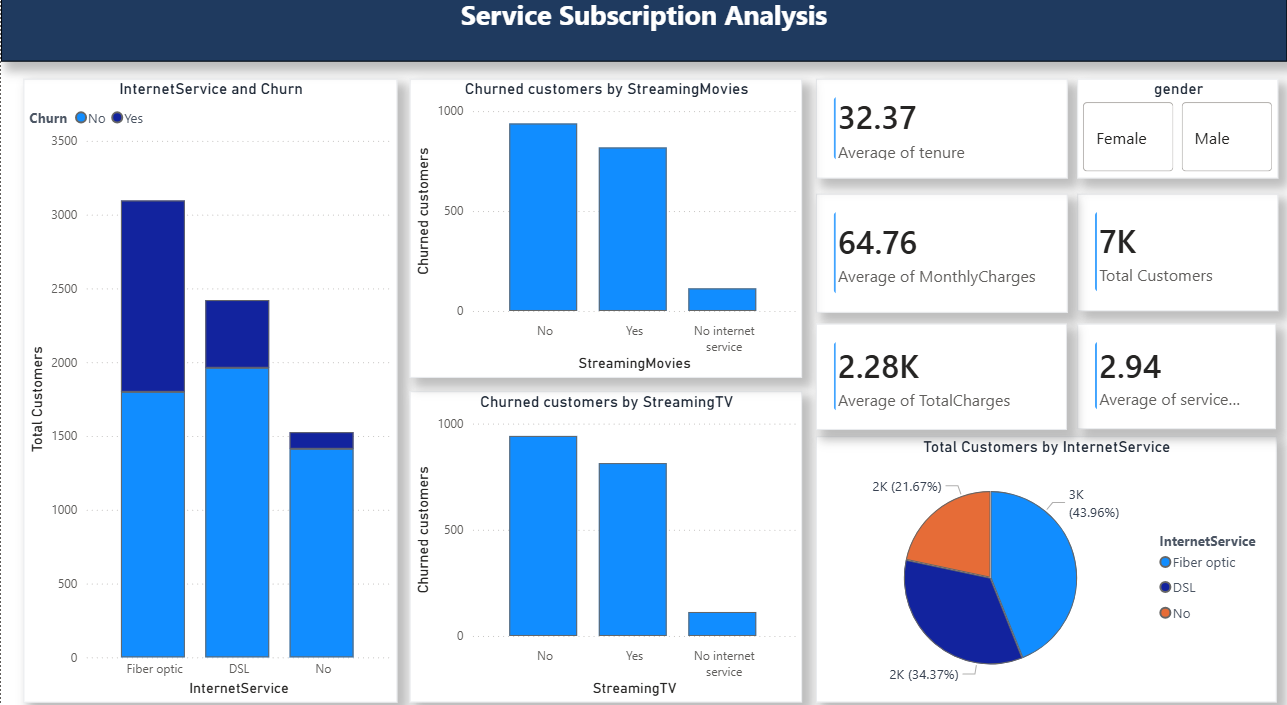

Layout of this report page (visuals, bound fields, positions):
{"tool":"powerbi","page":{"name":"Service Subscription Analysis","canvas":[1280,720],"ordinal":1},"visuals":[{"type":"cardVisual","fields":{"Data":["Telco-Customer-Churn).Total Customers"]},"box":[1071,202.8,200.3,116.9],"z":0},{"type":"cardVisual","fields":{"Data":["Avg(WA_Fn-UseC_-Telco-Customer-Churn (1).MonthlyCharges)"]},"box":[811.1,202.8,250,118.2],"z":1000},{"type":"cardVisual","fields":{"Data":["Avg(WA_Fn-UseC_-Telco-Customer-Churn (1).tenure)"]},"box":[811.1,88.3,250,99.5],"z":2000},{"type":"columnChart","title":"InternetService and Churn","fields":{"Category":["WA_Fn-UseC_-Telco-Customer-Churn (1).InternetService"],"Series":["Telco-Customer-Churn.Churn"],"Y":["Telco-Customer-Churn.Total Customers"]},"box":[22.4,88.3,371.9,620.7],"z":3000},{"type":"clusteredColumnChart","fields":{"Category":["Telco-Customer-Churn.StreamingTV"],"Y":["Telco-Customer-Churn.Churned customers"]},"box":[406.8,399.3,390.6,309.7],"z":4000},{"type":"clusteredColumnChart","fields":{"Y":["Telco-Customer-Churn.Churned customers"],"Category":["Telco-Customer-Churn.StreamingMovies"]},"box":[406.8,88.3,390.6,297.3],"z":5000},{"type":"pieChart","fields":{"Y":["Telco-Customer-Churn.Total Customers"],"Category":["Telco-Customer-Churn.InternetService"]},"box":[810.8,444.3,458.1,264.8],"z":6000},{"type":"textbox","box":[0,0,1280,70.9],"z":7000},{"type":"advancedSlicerVisual","fields":{"Values":["Telco-Customer-Churn.gender"]},"box":[1071,88.3,200.3,99.5],"z":8000},{"type":"cardVisual","fields":{"Data":["Avg(Telco-Customer-Churn.service count)"]},"box":[1071,332.1,197.8,104.5],"z":9000},{"type":"cardVisual","fields":{"Data":["Avg(WA_Fn-UseC_-Telco-Customer-Churn (1).TotalCharges)"]},"box":[810.8,332.6,249.8,105.4],"z":10000}]}

Visuals, with their boxes in screenshot pixels (x1, y1, x2, y2), scaled from the page's 1280x720 canvas onto the 1287x705 screenshot:
cardVisual - Telco-Customer-Churn).Total Customers: box=[1077, 199, 1278, 313]
cardVisual - Avg(WA_Fn-UseC_-Telco-Customer-Churn (1).MonthlyCharges): box=[816, 199, 1067, 314]
cardVisual - Avg(WA_Fn-UseC_-Telco-Customer-Churn (1).tenure): box=[816, 86, 1067, 184]
"InternetService and Churn" columnChart: box=[23, 86, 396, 694]
clusteredColumnChart - Telco-Customer-Churn.StreamingTV x Telco-Customer-Churn.Churned customers: box=[409, 391, 802, 694]
clusteredColumnChart - Telco-Customer-Churn.Churned customers x Telco-Customer-Churn.StreamingMovies: box=[409, 86, 802, 378]
pieChart - Telco-Customer-Churn.Total Customers x Telco-Customer-Churn.InternetService: box=[815, 435, 1276, 694]
textbox: box=[0, 0, 1286, 69]
advancedSlicerVisual - Telco-Customer-Churn.gender: box=[1077, 86, 1278, 184]
cardVisual - Avg(Telco-Customer-Churn.service count): box=[1077, 325, 1276, 428]
cardVisual - Avg(WA_Fn-UseC_-Telco-Customer-Churn (1).TotalCharges): box=[815, 326, 1066, 429]
